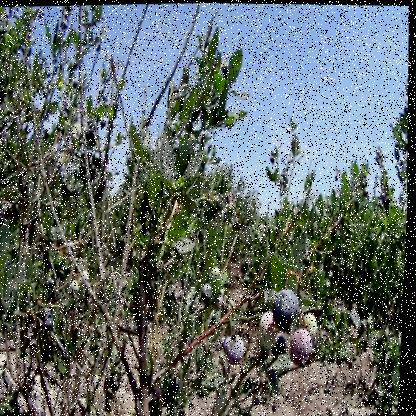intermediate: (293, 333, 318, 365)
mature: (273, 288, 305, 327), (226, 335, 252, 365), (47, 316, 59, 332)
young: (260, 313, 278, 345), (305, 313, 321, 331), (74, 277, 84, 297)
